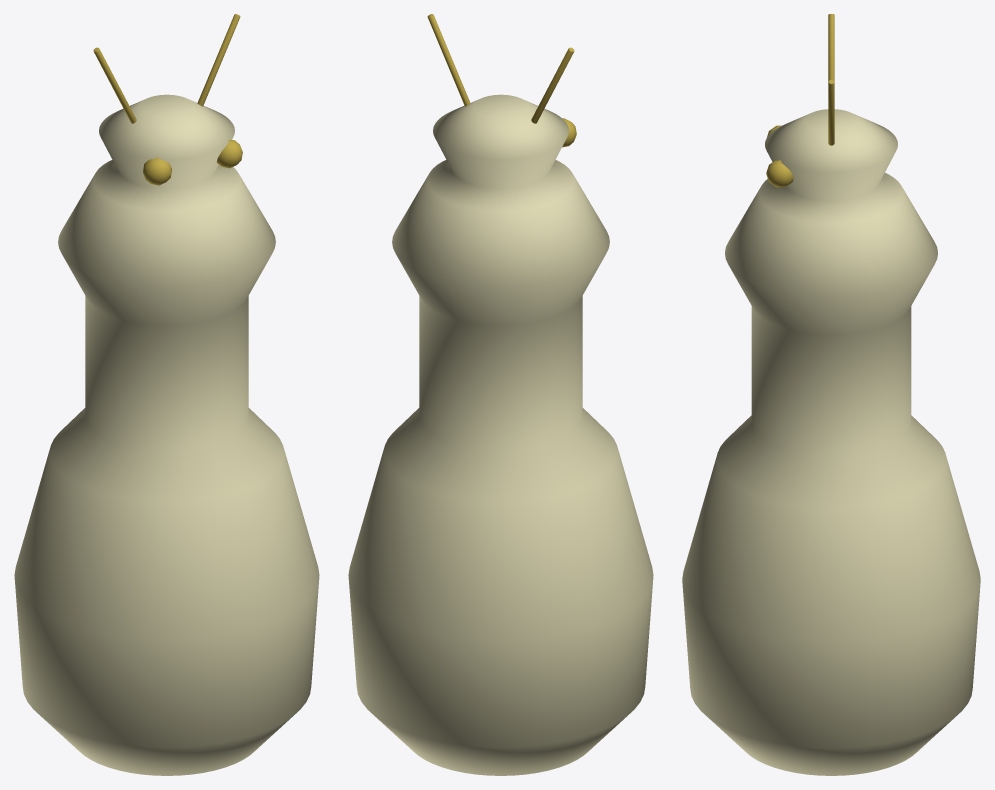
3 renders of one model, left to right at view 1: azimuth 30°, elevation 25°; view 2: azimuth 150°, elevation 25°; view 3: azimuth 270°, elevation 25°, orthographic. The views are drawn at different scales.
Visible parts, largest first — view 1: TI003 / segmented animal-shaped flask, TI003 / bent neck wire.001, TI003 / ornamental eye, TI003 / bent neck wire; view 2: TI003 / segmented animal-shaped flask, TI003 / bent neck wire.001, TI003 / bent neck wire; view 3: TI003 / segmented animal-shaped flask, TI003 / ornamental eye.001.
Part boxes in pixels (x1,y1,x2,y2): TI003 / segmented animal-shaped flask: [14, 94, 319, 775]; TI003 / bent neck wire.001: [197, 14, 240, 106]; TI003 / ornamental eye: [143, 157, 171, 185]; TI003 / bent neck wire: [93, 47, 136, 123]; TI003 / segmented animal-shaped flask: [348, 94, 653, 775]; TI003 / bent neck wire.001: [427, 14, 470, 106]; TI003 / bent neck wire: [531, 47, 574, 123]; TI003 / segmented animal-shaped flask: [682, 109, 980, 775]; TI003 / ornamental eye.001: [766, 160, 793, 187].
Bounding box in the file's own units: 1.12 × 2.85 × 1.12.
